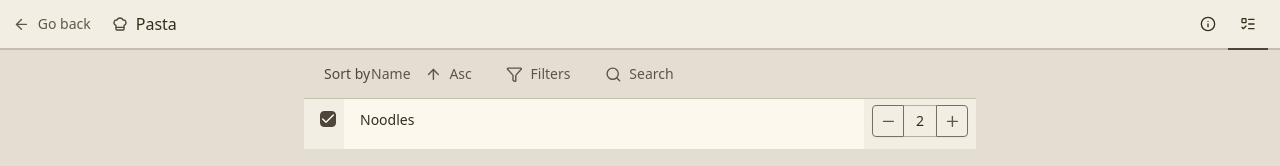
Scenario: Recipe Detail - Items Tab › user sees spinner on minus button while mutation is pending (recipe-assignment mode)
The image size is (1280, 166).
Step 1. Click the button named "Decrease quantity of Noodles" → {"x": 888, "y": 121}, box [872,105,904,137]
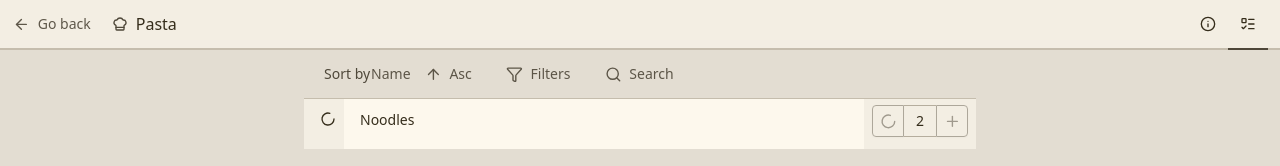
Check: the 2nd icon with class "animate-spin" is shown, box [880,113,896,129]
